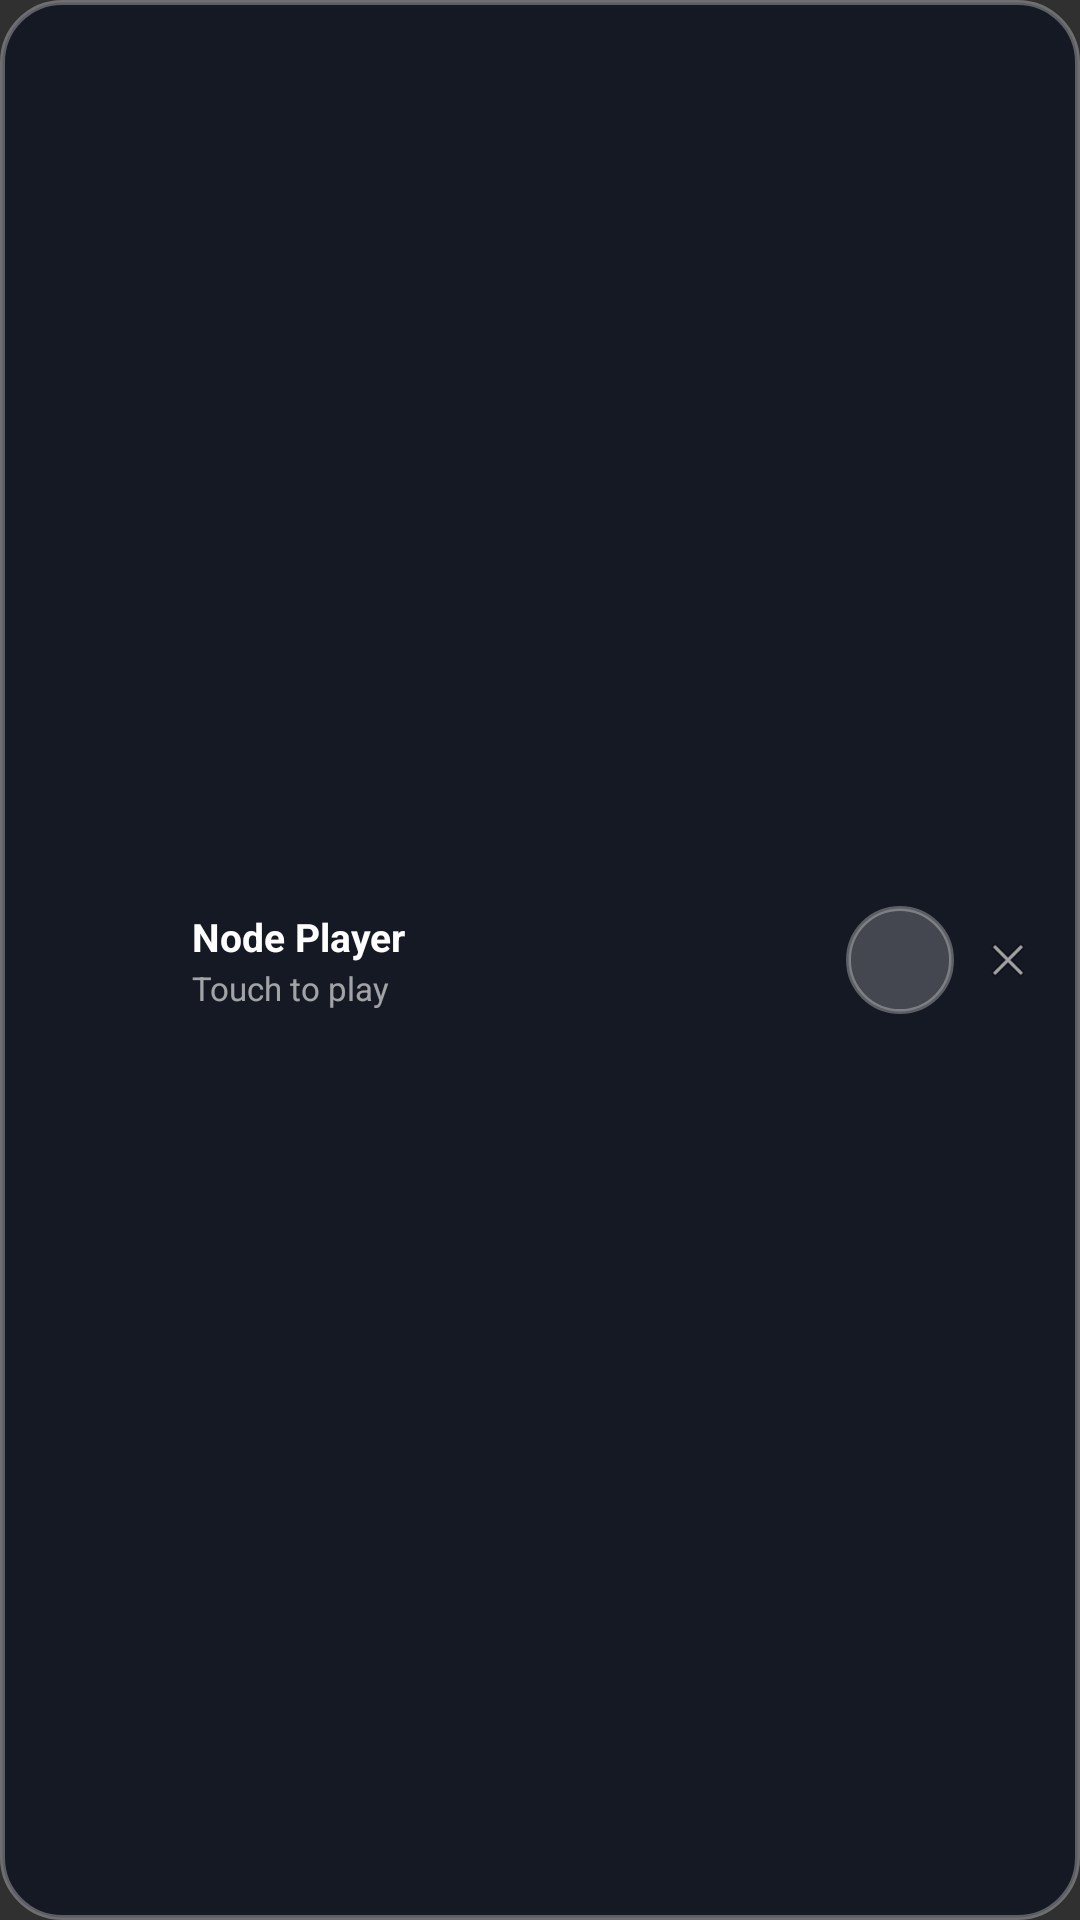

Screen size 1080w x 1920h. Icon name, then its box in pixels as (x1, y1, x2, y2):
Close: (993, 945, 1023, 975)
